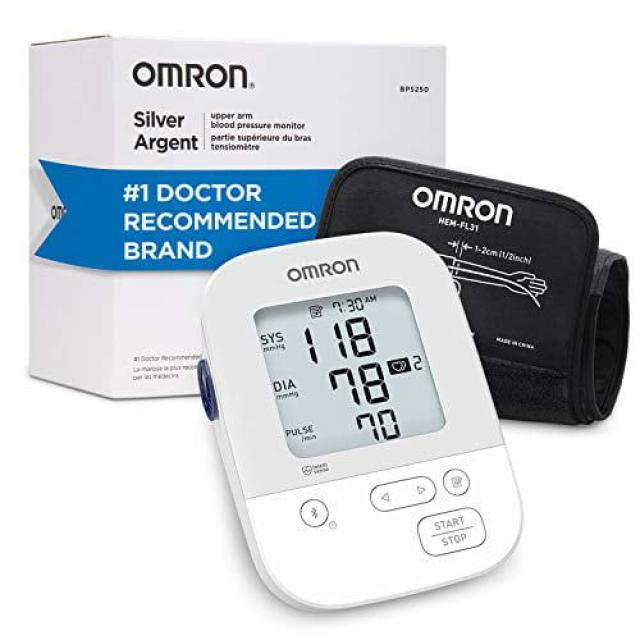dia: (322, 353, 398, 415)
pul: (347, 397, 410, 454)
ssd: (254, 278, 447, 463)
sys: (294, 300, 394, 371)
